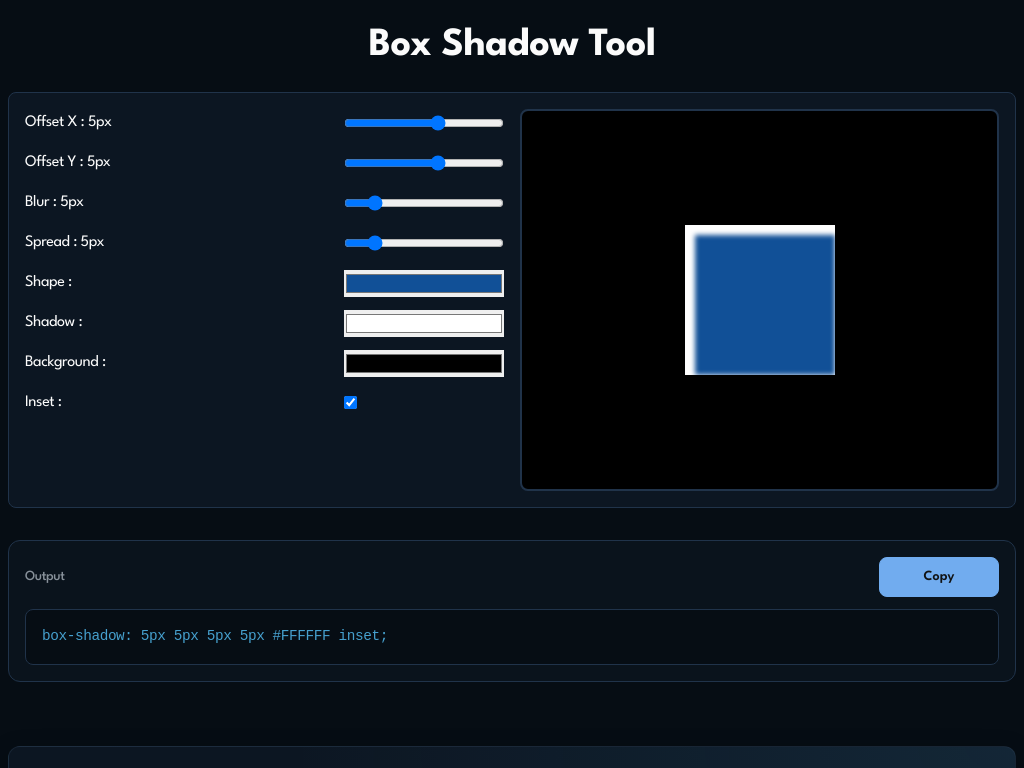
Test: Tool migrations › BoxShadow › keeps live preview output and supports inset toggle
Expected: the text "box-shadow: 5px 5px 5px 5px #FFFFFF inset;" is shown, [42,628,388,644]
Set the slider labelled "Blur : 5px" to "12" at (406, 203), box [344,195,504,211]
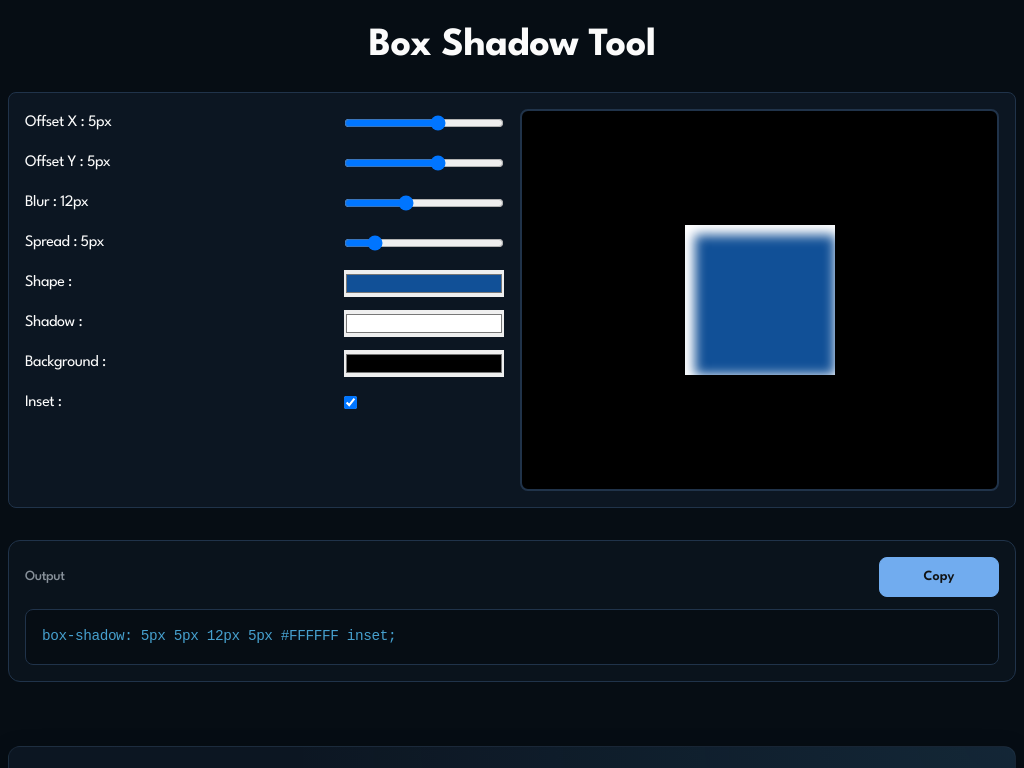
Result: the text "box-shadow: 5px 5px 12px 5px #FFFFFF inset;" is shown at [42,628,396,644]
Click the checkbox labelled "Inset :" at (350, 403), box [344,396,357,409]
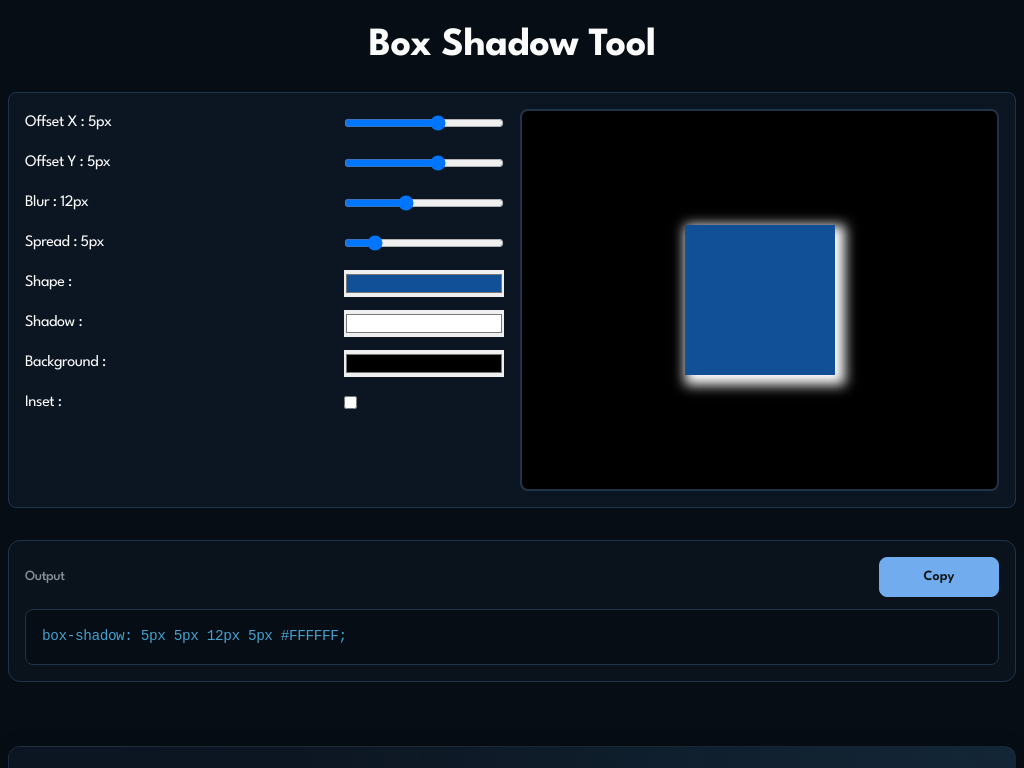
Result: the text "box-shadow: 5px 5px 12px 5px #FFFFFF;" is shown at [42,628,347,644]
